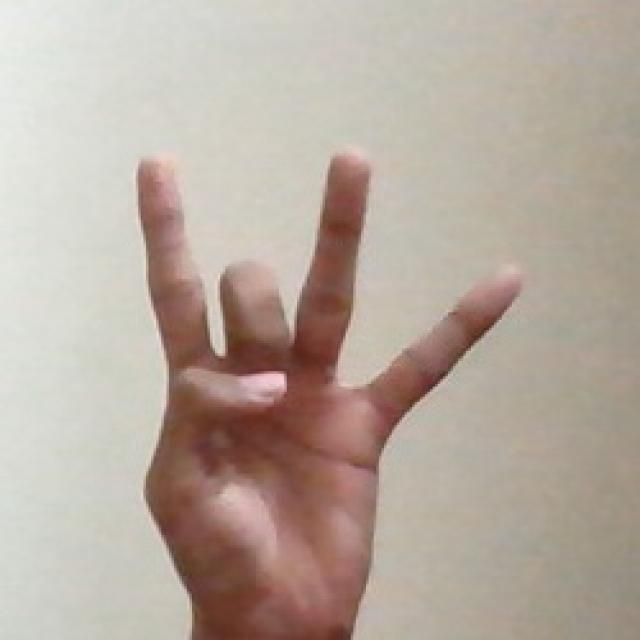Numeric-8: (134, 140, 521, 596)
